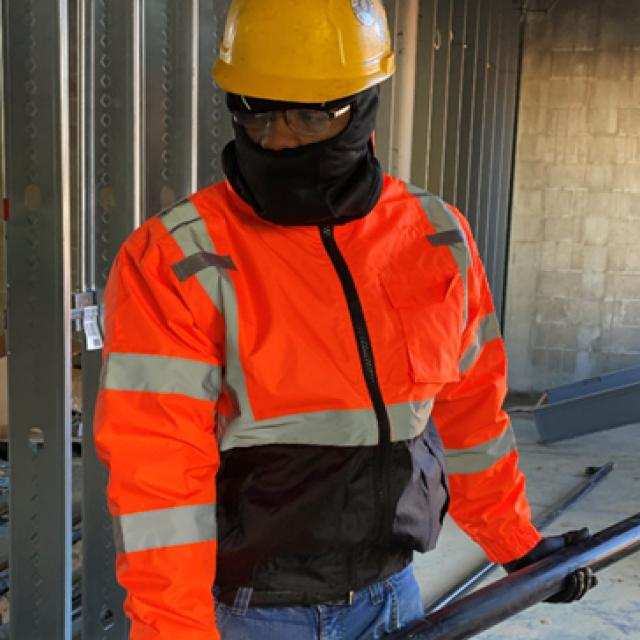goggles: (206, 96, 378, 148)
helmet: (76, 0, 551, 640), (189, 0, 411, 97)
vest: (113, 181, 490, 622)
